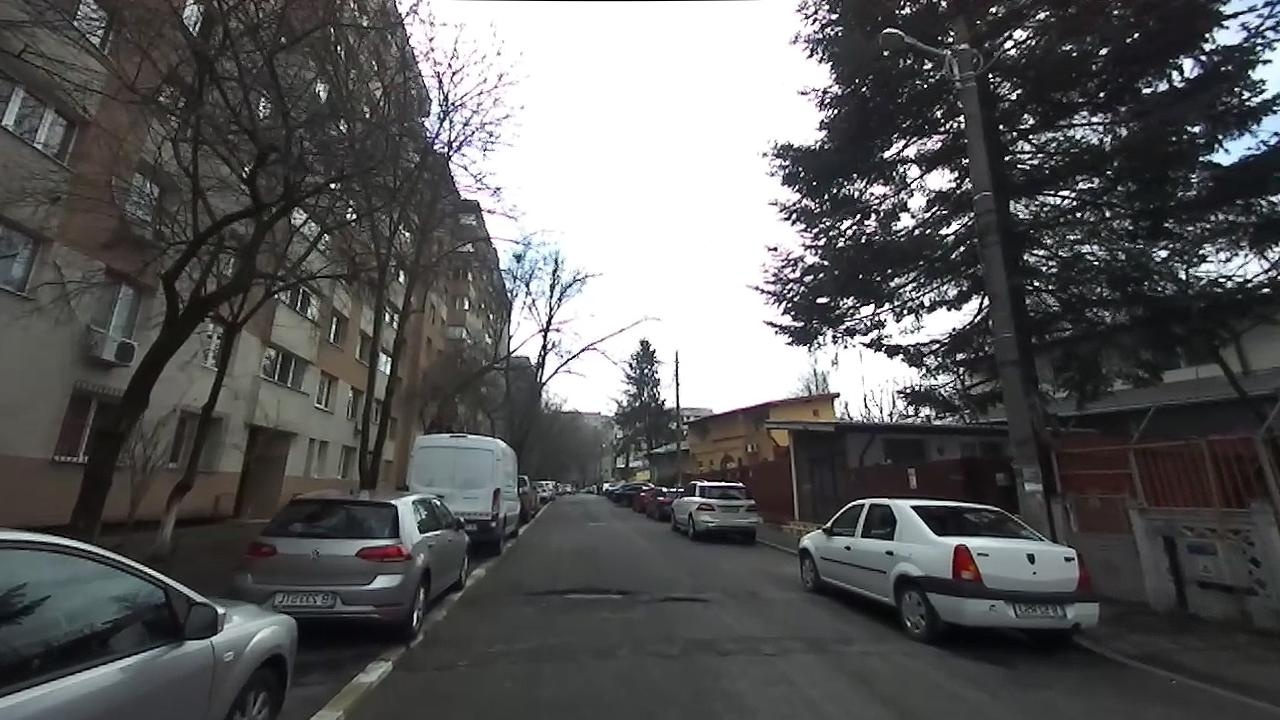pothole: (523, 579, 634, 598), (648, 589, 711, 604)
